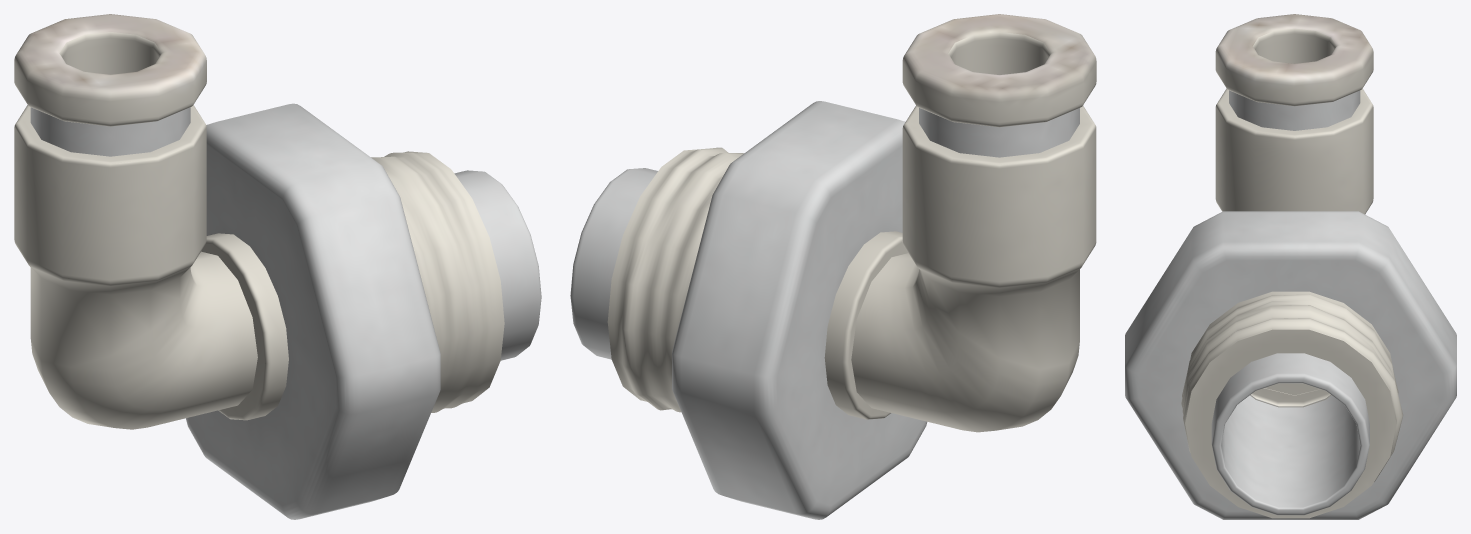
File: WanTou01.fbx
3 renders of one model, left to right at view 1: azimuth 30°, elevation 25°; view 2: azimuth 150°, elevation 25°; view 3: azimuth 270°, elevation 25°, orthographic. The views are drawn at different scales.
Visible parts, largest first — view 1: 对象068; view 2: 对象068; view 3: 对象068.
Boxes of the visible parts, bbox=[...] form: 对象068: bbox=[14, 14, 541, 519]; 对象068: bbox=[570, 14, 1096, 519]; 对象068: bbox=[1125, 14, 1456, 519].
Size of the model in its own units: 2.21 by 2.14 by 1.66.
